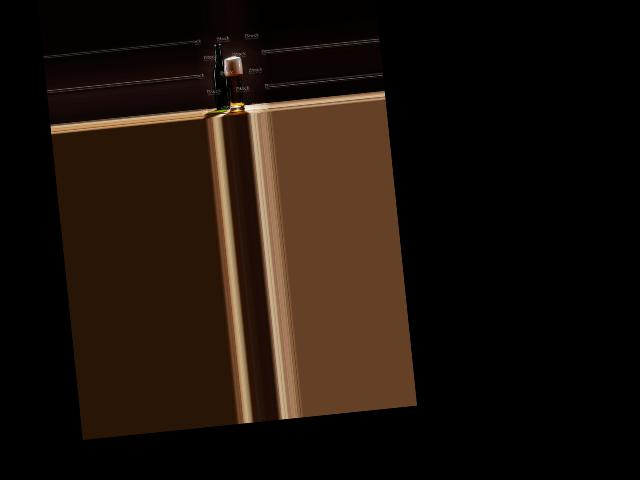beer: (209, 43, 231, 110)
